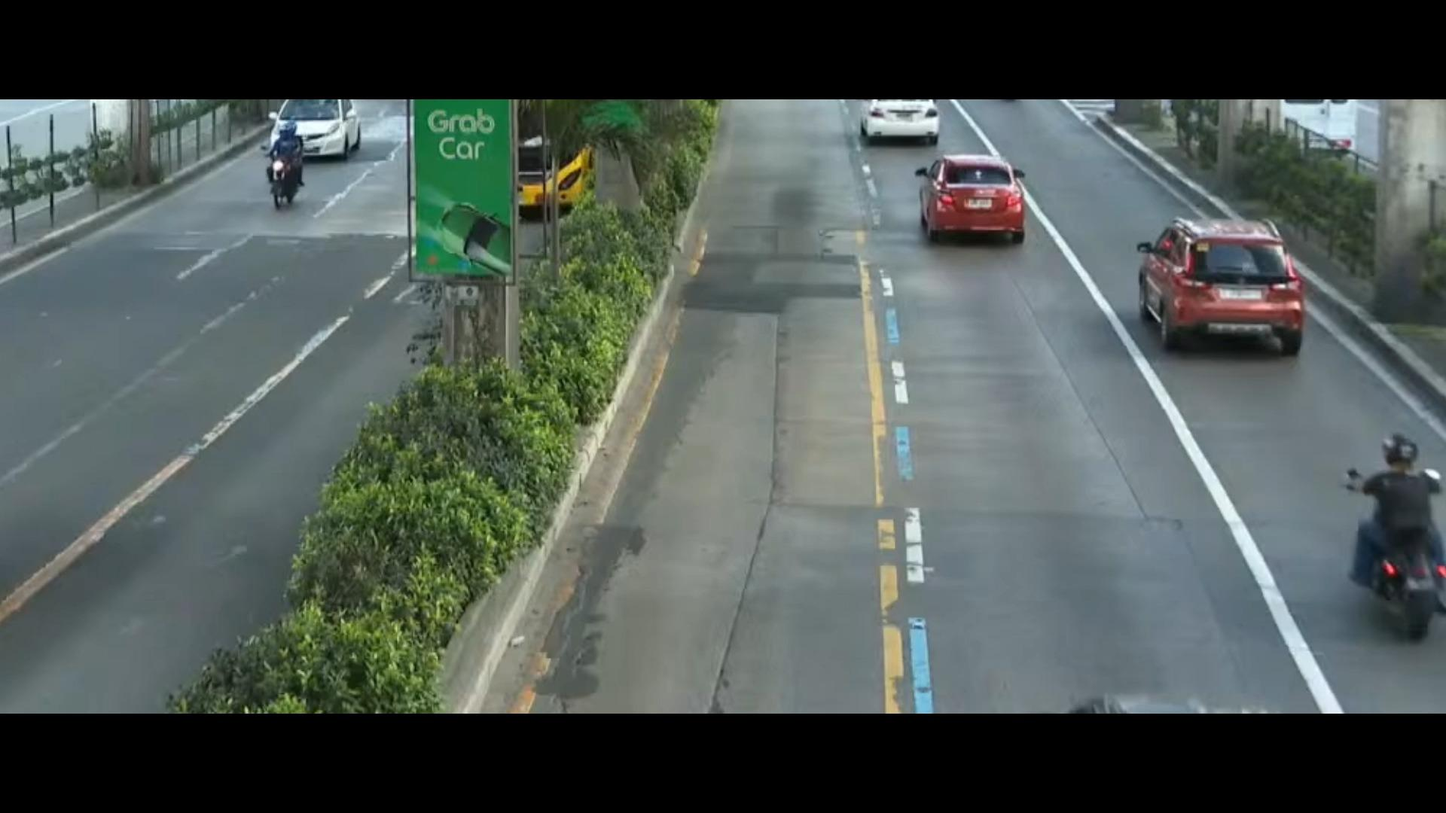Motorcycle: (1333, 426, 1446, 689), (247, 111, 315, 224)
SUV: (1131, 202, 1326, 379)
Sedan: (902, 136, 1038, 275), (262, 91, 366, 162)
